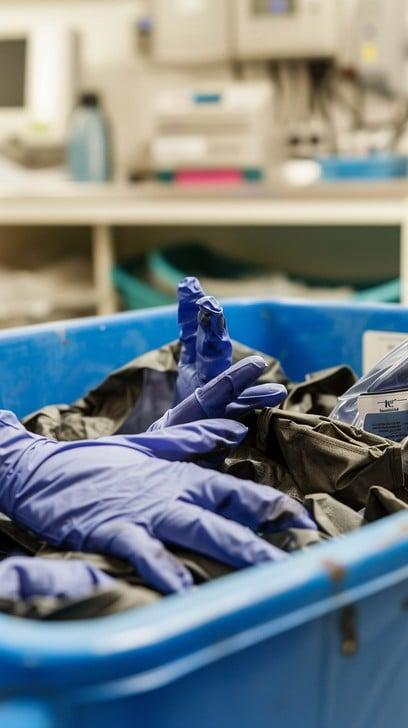Glove: (0, 410, 315, 592), (149, 277, 286, 430), (148, 355, 286, 430), (173, 276, 231, 404), (0, 556, 114, 600)
Iv_Bottle: (66, 92, 111, 182)
